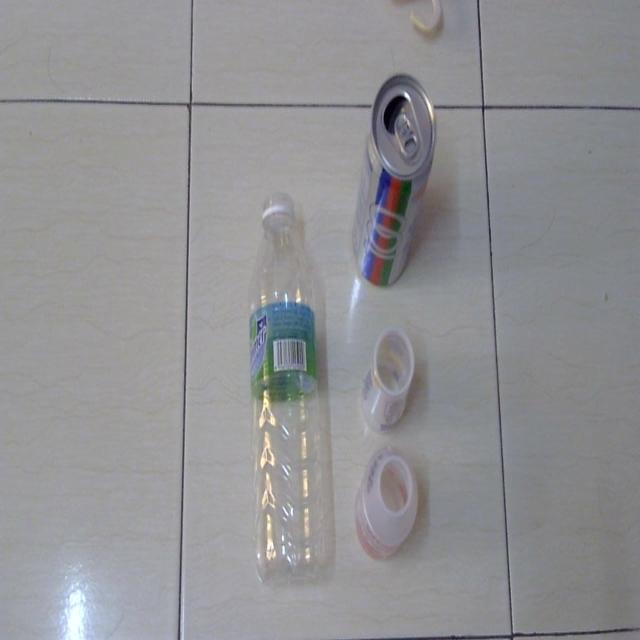metal_standrotation: (344, 70, 439, 286)
plastic_laydown_90rotation: (247, 184, 332, 576)
plastic_standrotation: (355, 438, 425, 572), (362, 322, 423, 433)
